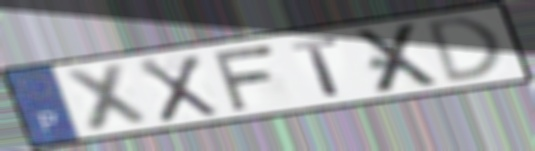D: (424, 13, 508, 87)
F: (207, 42, 278, 114)
T: (286, 35, 344, 98)
X: (352, 20, 445, 97), (60, 60, 153, 135), (134, 52, 222, 125)
